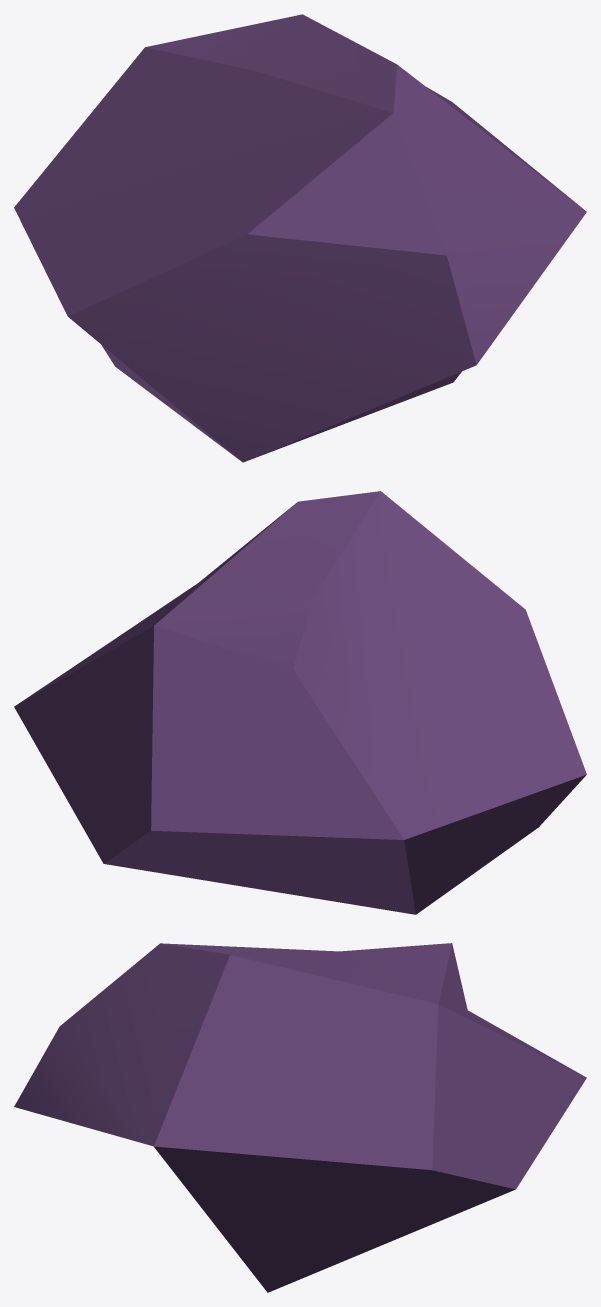
Rendered from Rock_003.fbx.
The picture shows the model from 3 angles, top to bottom: view 1: azimuth 30°, elevation 25°; view 2: azimuth 150°, elevation 25°; view 3: azimuth 270°, elevation 25°; orthographic projection. The views are drawn at different scales.
Parts seen in each view (by area): view 1: Rock_003; view 2: Rock_003; view 3: Rock_003.
Boxes of the visible parts, x1,y1,x2,y2 form: Rock_003: (14,14,586,462); Rock_003: (14,491,586,914); Rock_003: (14,943,586,1292).
Size of the model in its own units: 1.57 by 1.09 by 1.86.
